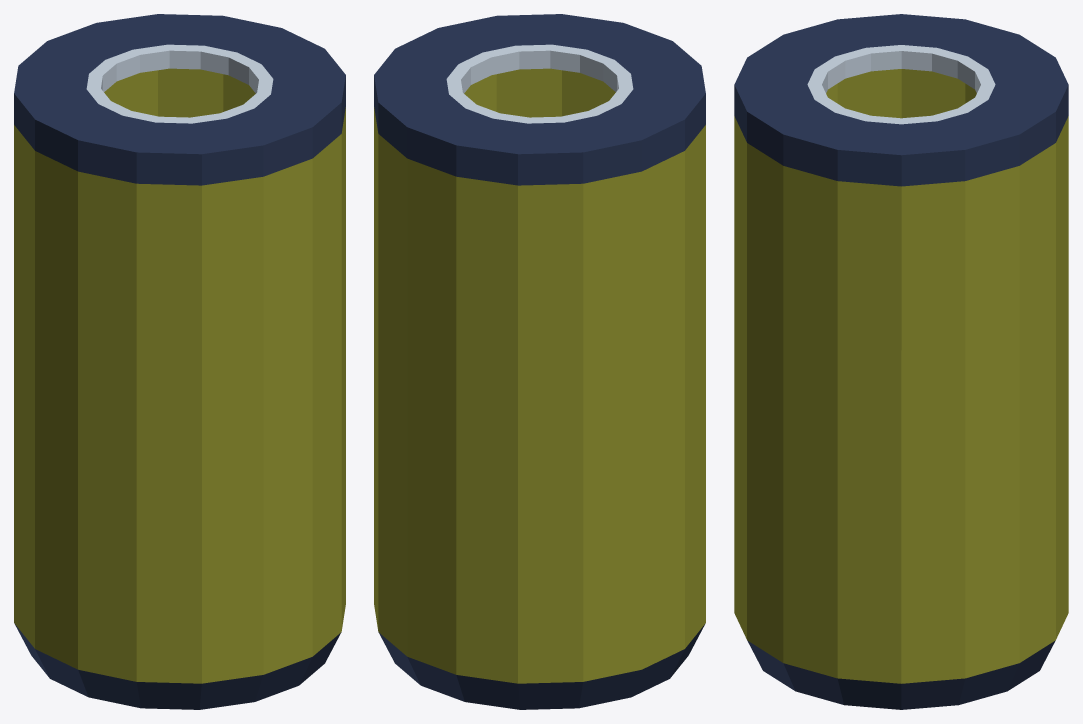
File: TrashBinModel01.fbx
3 views of the same model, side by side, from view 1: azimuth 30°, elevation 25°; view 2: azimuth 150°, elevation 25°; view 3: azimuth 270°, elevation 25° (orthographic).
Parts seen in each view (by area): view 1: TrashBin01; view 2: TrashBin01; view 3: TrashBin01.
Boxes of the visible parts, left/top/right/bottom form: TrashBin01: left=14, top=14, right=345, bottom=709; TrashBin01: left=374, top=14, right=705, bottom=709; TrashBin01: left=734, top=14, right=1068, bottom=709.
Bounding box in the file's own units: 68.35 × 127 × 68.35.
